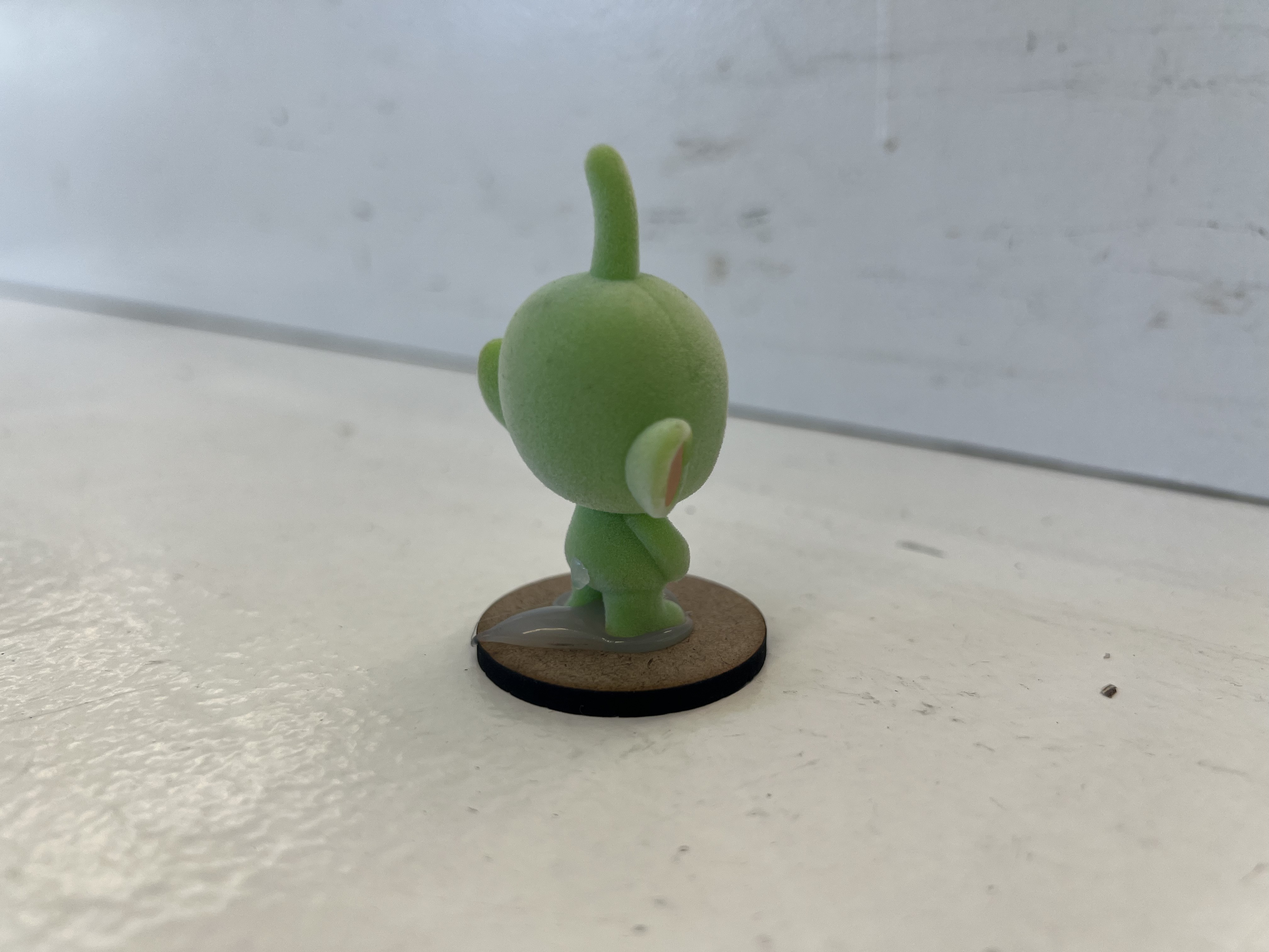teletubby: (478, 145, 728, 638)
